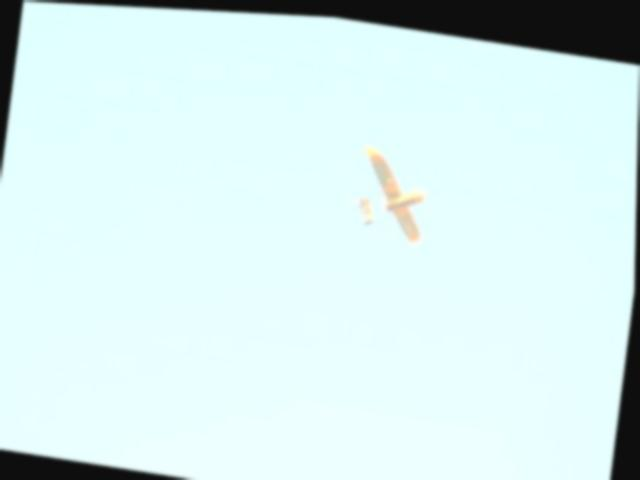iha: (341, 136, 441, 250)
